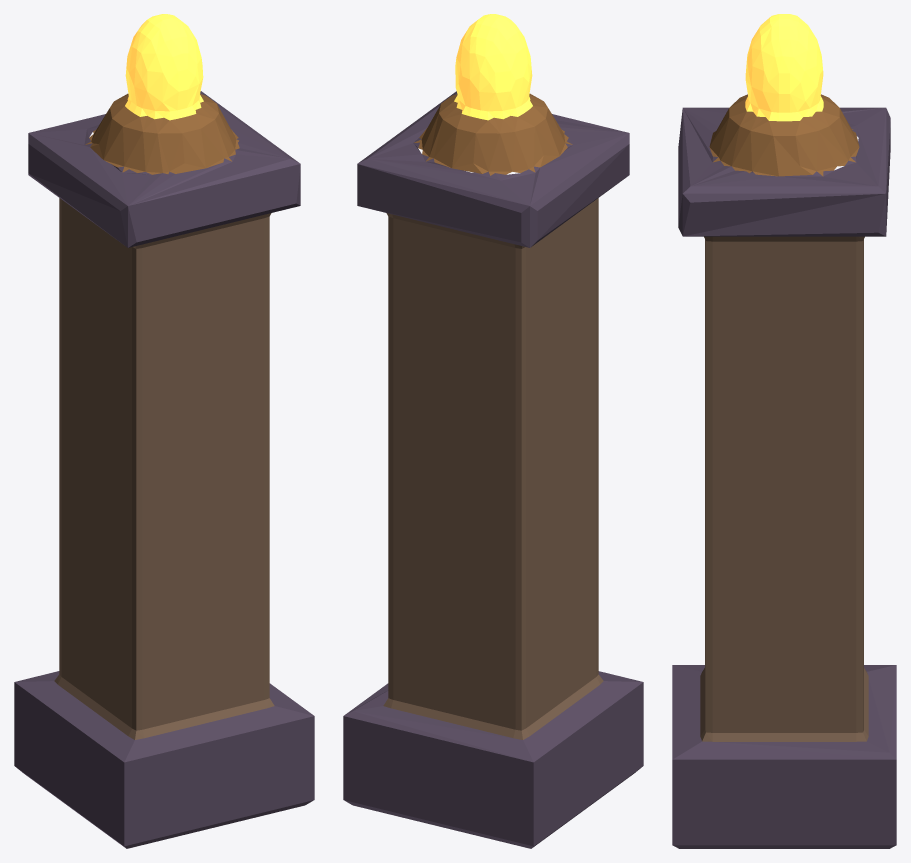
The model's file is barrier_post_living.glb.
3 renders of one model, left to right at view 1: azimuth 30°, elevation 25°; view 2: azimuth 150°, elevation 25°; view 3: azimuth 270°, elevation 25°, orthographic.
Visible parts, largest first — view 1: barrier_post_living; view 2: barrier_post_living; view 3: barrier_post_living.
Boxes of the visible parts, <box> form: barrier_post_living: <box>14,14,314,848</box>; barrier_post_living: <box>343,14,643,848</box>; barrier_post_living: <box>672,14,896,848</box>.
Bounding box in the file's own units: 0.5067 × 1.96 × 0.5067.
